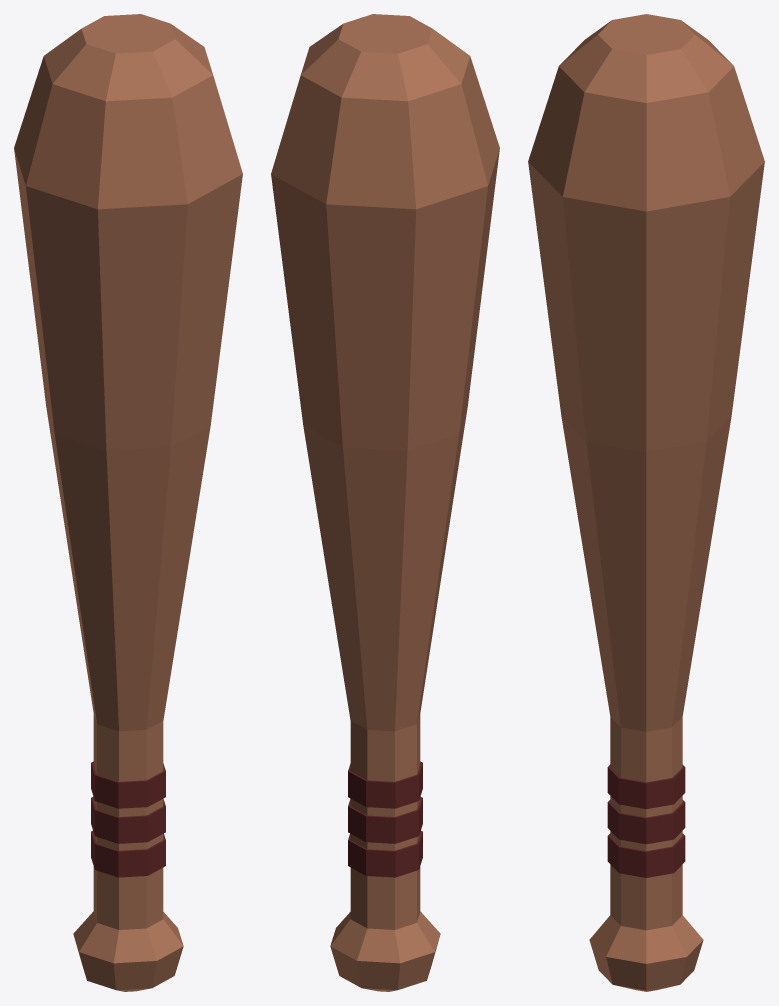
The model's file is Wooden club.fbx.
The picture shows the model from 3 angles, left to right: view 1: azimuth 30°, elevation 25°; view 2: azimuth 150°, elevation 25°; view 3: azimuth 270°, elevation 25°; orthographic projection.
Visible parts, largest first — view 1: Club; view 2: Club; view 3: Club.
Boxes of the visible parts, bbox=[...] form: Club: bbox=[14, 14, 242, 991]; Club: bbox=[271, 14, 499, 991]; Club: bbox=[528, 14, 764, 991].
Size of the model in its own units: 36.64 by 162 by 36.64.
